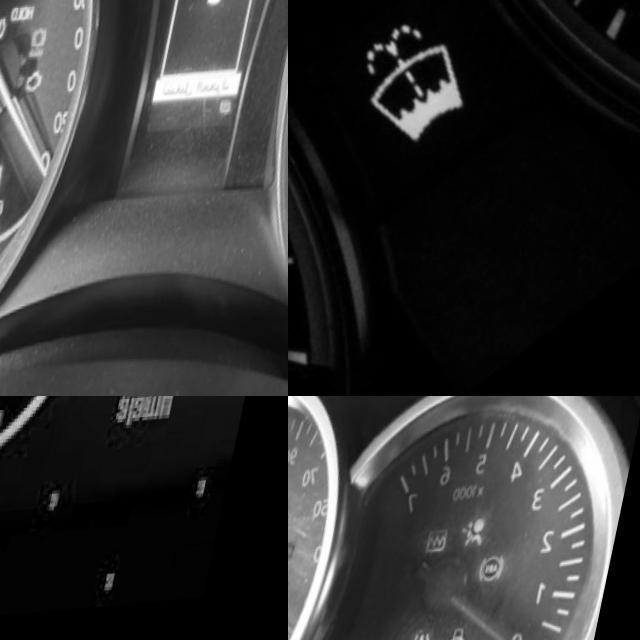High Engine Coolant Temperature: (288, 585, 301, 612)
Washer Fluid: (363, 25, 490, 149)
